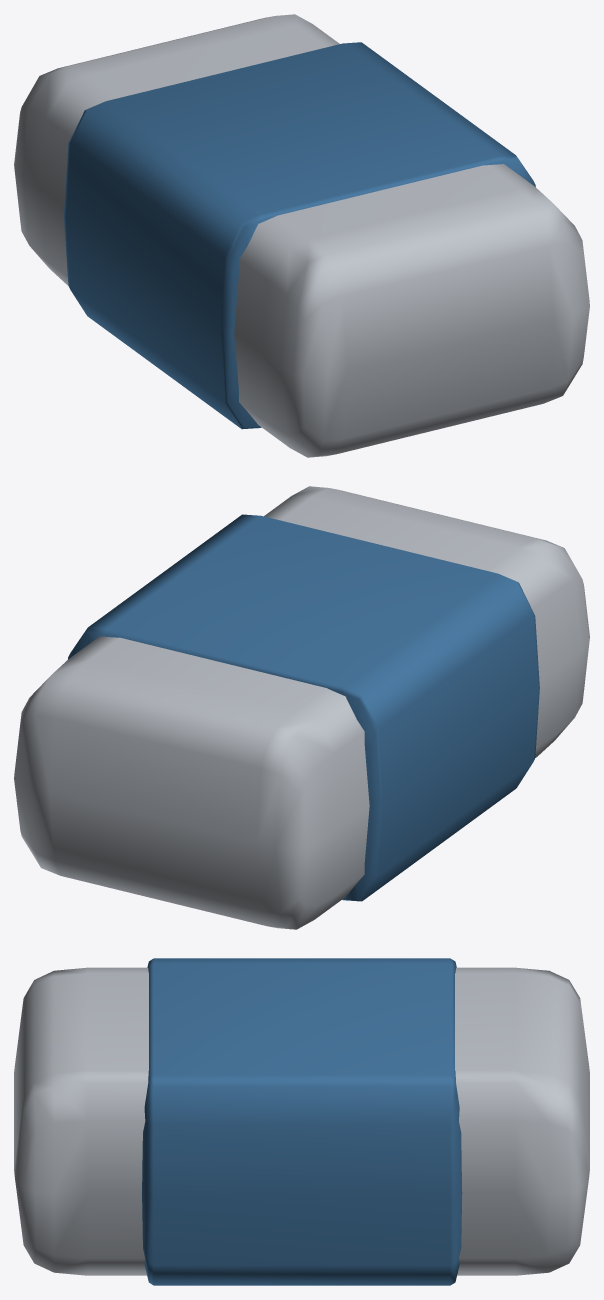
The model's file is Basic_Low_Poly_Rubber (Faces 208)_fbx.fbx.
3 views of the same model, one above another, from view 1: azimuth 30°, elevation 25°; view 2: azimuth 150°, elevation 25°; view 3: azimuth 270°, elevation 25° (orthographic). The views are drawn at different scales.
Visible parts, largest first — view 1: Low_Poly_Rubber__Faces_208_; view 2: Low_Poly_Rubber__Faces_208_; view 3: Low_Poly_Rubber__Faces_208_.
Part boxes in pixels (x1,y1,x2,y2): Low_Poly_Rubber__Faces_208_: (14, 14, 589, 457); Low_Poly_Rubber__Faces_208_: (14, 486, 589, 929); Low_Poly_Rubber__Faces_208_: (14, 958, 589, 1285).
Bounding box in the file's own units: 2.16 × 1.38 × 3.52.
